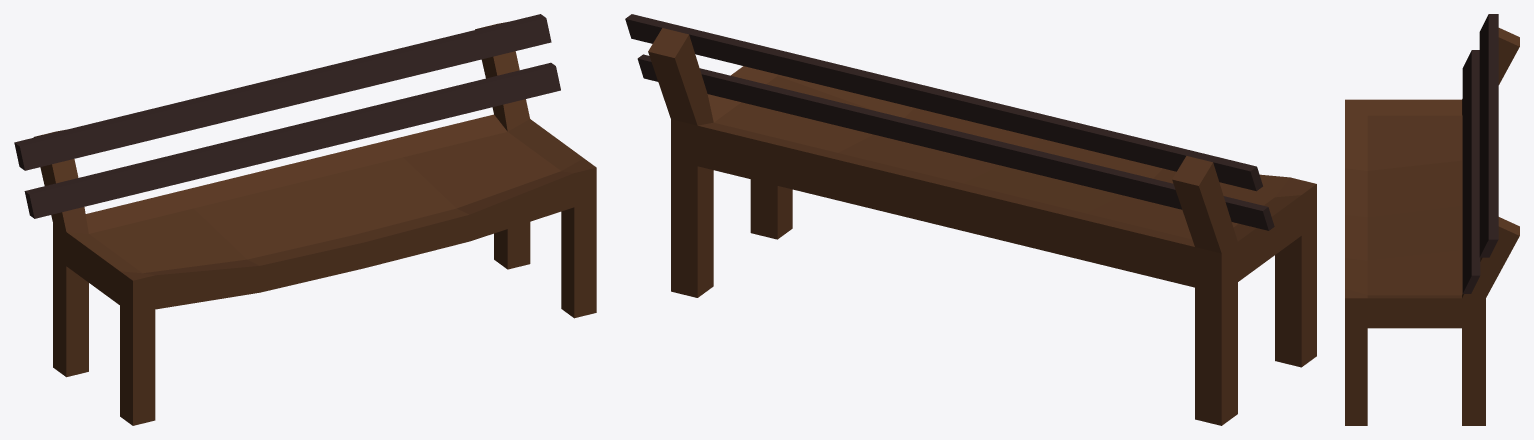
Rendered from banc_01.fbx.
The picture shows the model from 3 angles, left to right: view 1: azimuth 30°, elevation 25°; view 2: azimuth 150°, elevation 25°; view 3: azimuth 270°, elevation 25°; orthographic projection. The views are drawn at different scales.
Parts seen in each view (by area): view 1: Cube; view 2: Cube; view 3: Cube.
Boxes of the visible parts, x1,y1,x2,y2 form: Cube: (14,14,596,425); Cube: (625,14,1316,425); Cube: (1345,14,1519,425).
Size of the model in its own units: 759 by 313 by 248.
